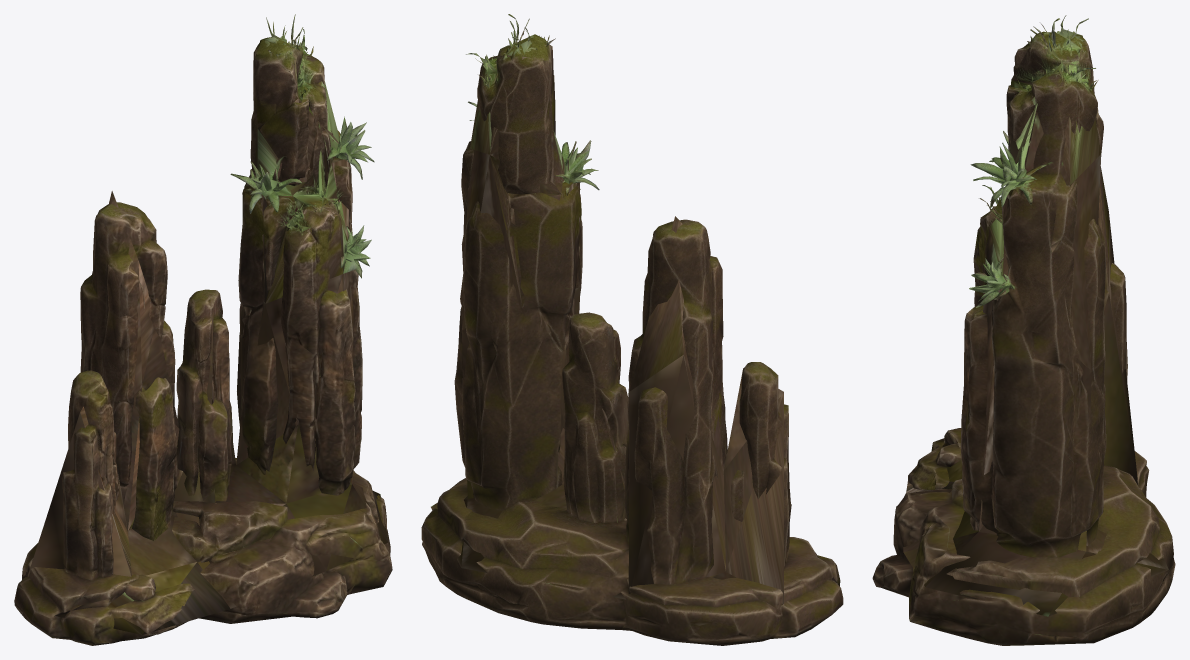
File: JGH_SpireGroup_A.fbx
The picture shows the model from 3 angles, left to right: view 1: azimuth 30°, elevation 25°; view 2: azimuth 150°, elevation 25°; view 3: azimuth 270°, elevation 25°; orthographic projection. The views are drawn at different scales.
Visible parts, largest first — view 1: JGH_SpireGroup_A, JGH_SpireGroup_A_far; view 2: JGH_SpireGroup_A, JGH_SpireGroup_A_far; view 3: JGH_SpireGroup_A, JGH_SpireGroup_A_far.
Boxes of the visible parts, left/top/right/bottom form: JGH_SpireGroup_A: left=14, top=14, right=392, bottom=645; JGH_SpireGroup_A_far: left=27, top=24, right=387, bottom=634; JGH_SpireGroup_A: left=421, top=14, right=843, bottom=645; JGH_SpireGroup_A_far: left=431, top=21, right=837, bottom=625; JGH_SpireGroup_A: left=872, top=15, right=1175, bottom=645; JGH_SpireGroup_A_far: left=903, top=22, right=1168, bottom=616.
Size of the model in its own units: 586 by 807 by 375.
2 materials, 2 textured.
